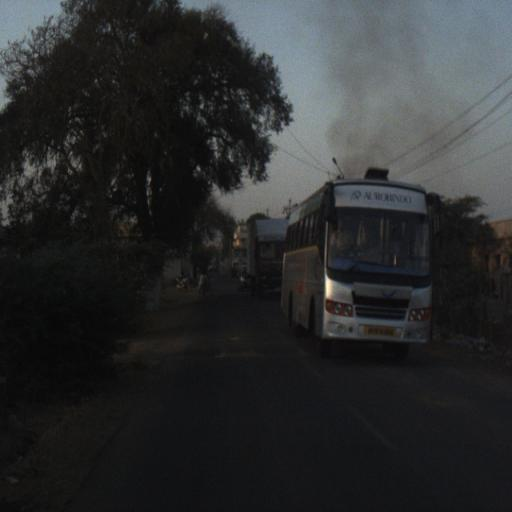street_light_0: (332, 157, 346, 183)
